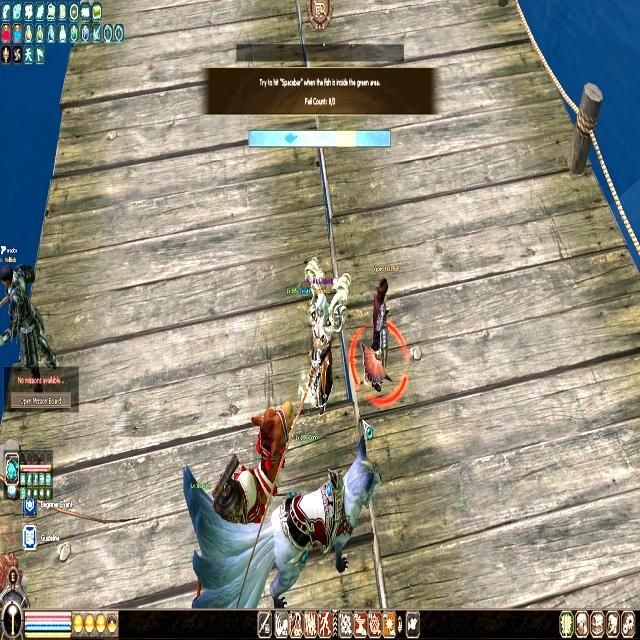fishes: (284, 131, 296, 145)
